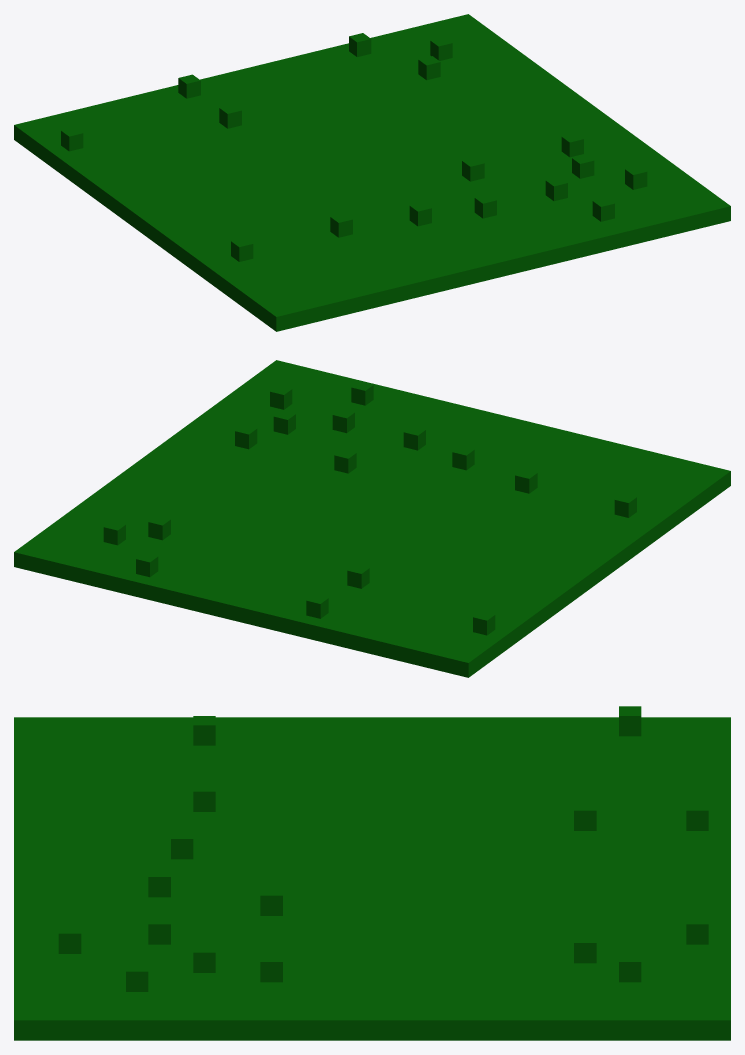
File: env_grass1d.fbx
3 renders of one model, top to bottom at view 1: azimuth 30°, elevation 25°; view 2: azimuth 150°, elevation 25°; view 3: azimuth 270°, elevation 25°, orthographic. The views are drawn at different scales.
Parts seen in each view (by area): view 1: env_grass1d; view 2: env_grass1d; view 3: env_grass1d.
Boxes of the visible parts, x1,y1,x2,y2 form: env_grass1d: [14, 14, 730, 331]; env_grass1d: [14, 360, 730, 677]; env_grass1d: [14, 706, 730, 1040].
Bounding box in the file's own units: 3.2 × 3.2 × 0.2.
Materials: 1 (1 with a texture image).
